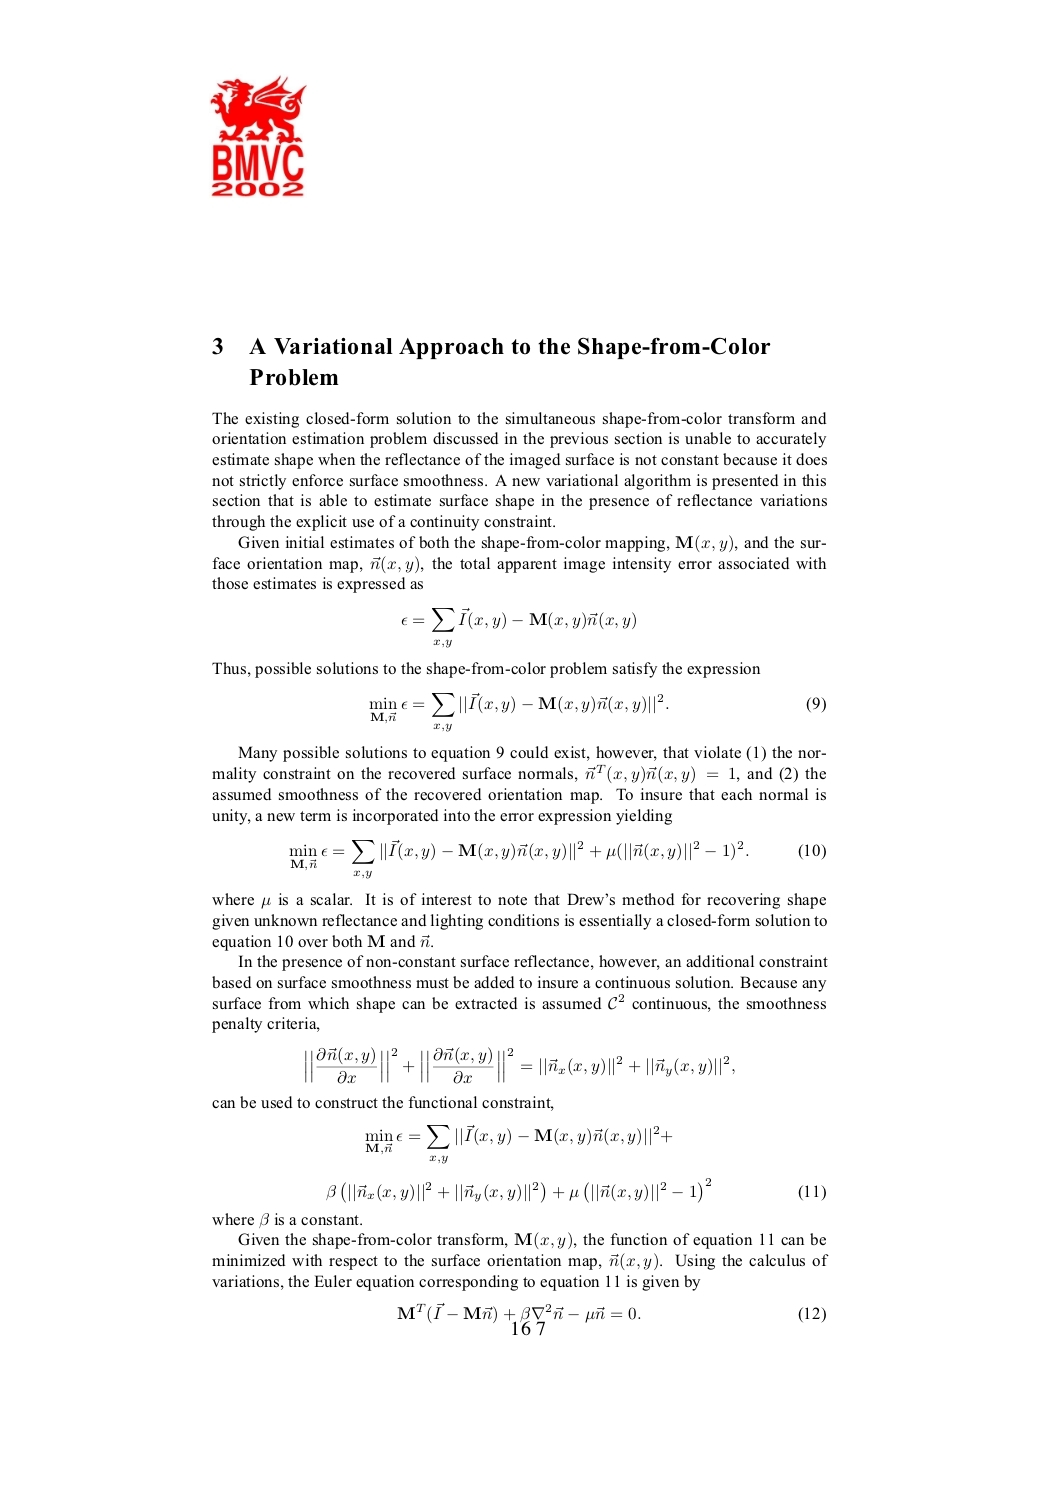figure: (210, 73, 305, 197)
formula: (289, 838, 824, 879), (369, 692, 824, 732), (305, 1046, 734, 1084), (397, 1302, 824, 1336), (326, 1177, 824, 1203), (365, 1124, 672, 1164), (401, 608, 635, 647)
